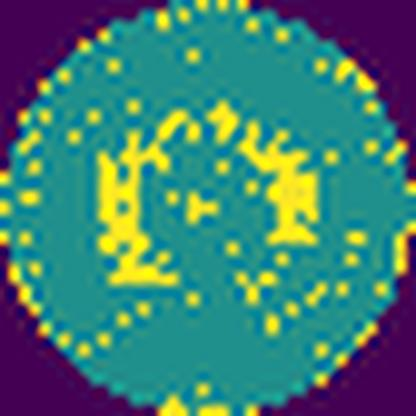Donut: (84, 101, 325, 311)
